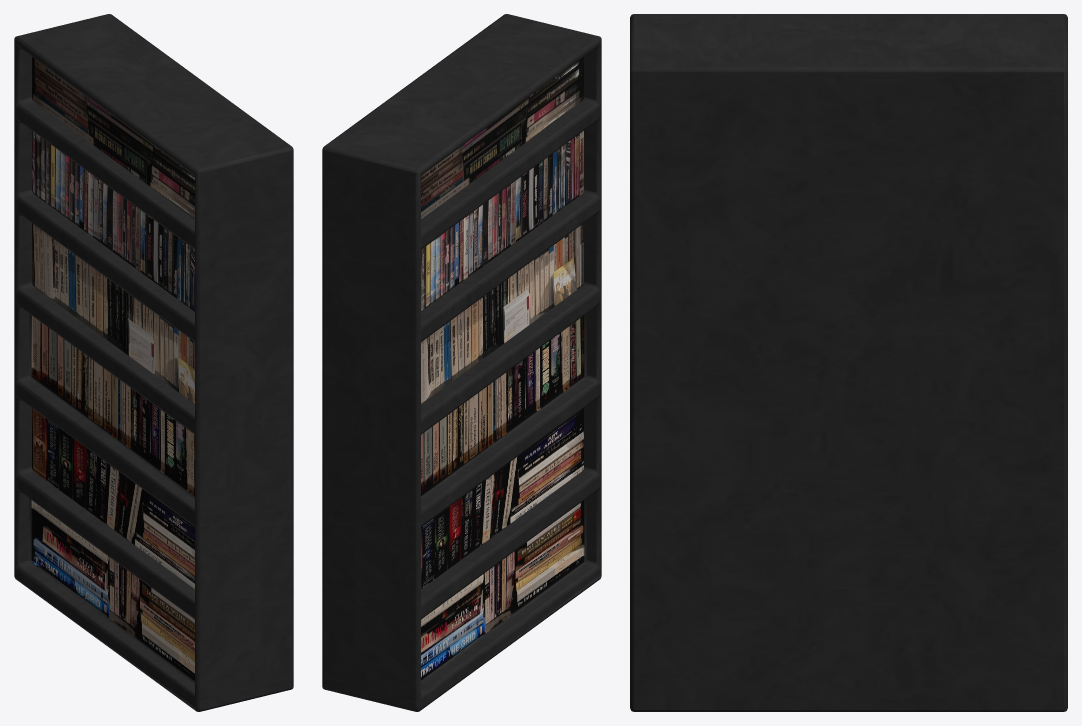
File: compressed_1730576052076_bookshelf_short_lowpoly.glb
3 views of the same model, side by side, from view 1: azimuth 30°, elevation 25°; view 2: azimuth 150°, elevation 25°; view 3: azimuth 270°, elevation 25° (orthographic). The views are drawn at different scales.
Parts seen in each view (by area): view 1: Shelf2BAKE_Shelf2BAKE_0; view 2: Shelf2BAKE_Shelf2BAKE_0; view 3: Shelf2BAKE_Shelf2BAKE_0.
Part boxes in pixels (x1,y1,x2,y2): Shelf2BAKE_Shelf2BAKE_0: (14,14,293,711); Shelf2BAKE_Shelf2BAKE_0: (322,14,601,711); Shelf2BAKE_Shelf2BAKE_0: (630,14,1067,711).
Size of the model in its own units: 0.2547 by 1.35 by 0.8333.
Materials: 1 (1 with a texture image).
